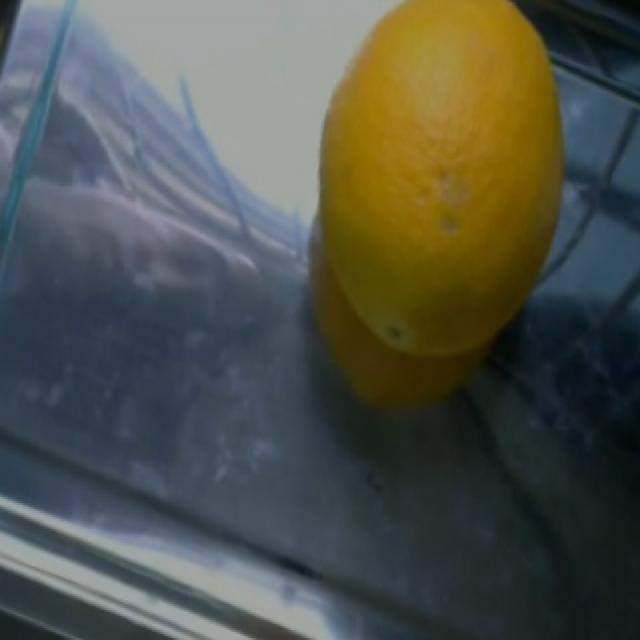Fruit: (299, 0, 585, 274)
